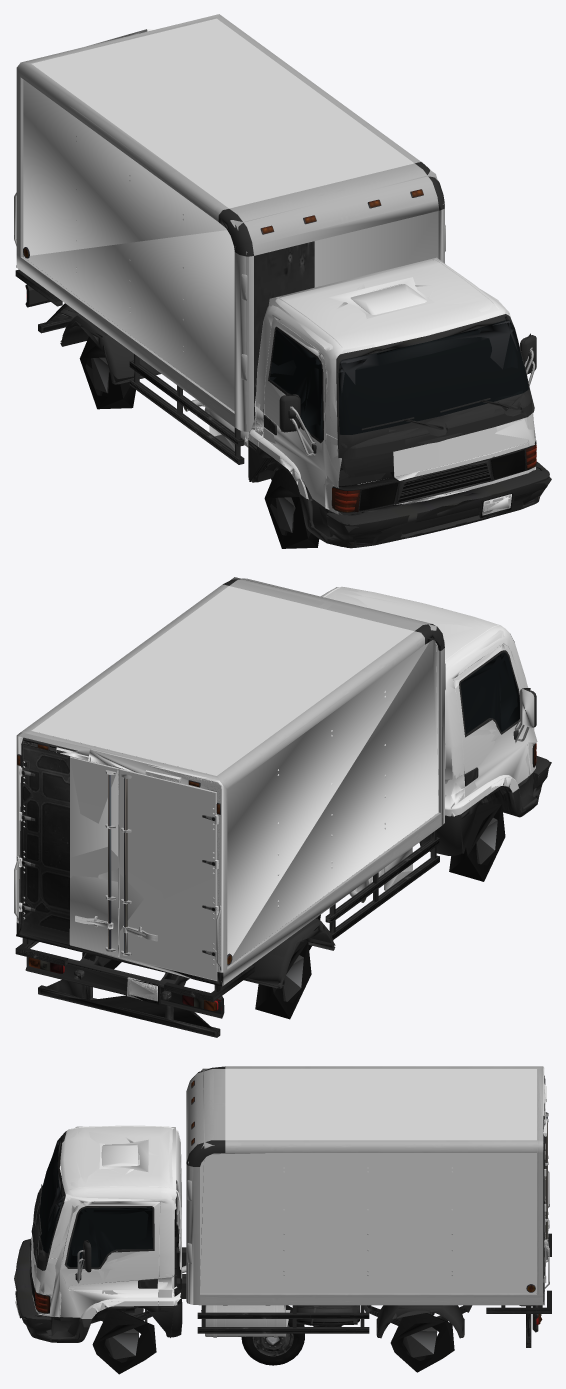
The model's file is truck7.glb.
The picture shows the model from 3 angles, top to bottom: view 1: azimuth 30°, elevation 25°; view 2: azimuth 150°, elevation 25°; view 3: azimuth 270°, elevation 25°; orthographic projection. The views are drawn at different scales.
Parts seen in each view (by area): view 1: body0, body2, body1; view 2: body0, body2, body1; view 3: body0, body1, body2, wheel0, wheel1.
Part boxes in pixels (x1,y1,x2,y2): body0: [14, 14, 549, 548]; body2: [16, 29, 551, 548]; body1: [14, 22, 549, 547]; body0: [14, 579, 549, 1031]; body2: [16, 577, 551, 1028]; body1: [14, 578, 549, 1037]; body0: [15, 1066, 551, 1347]; body1: [15, 1066, 549, 1342]; body2: [14, 1068, 548, 1374]; wheel0: [241, 1305, 304, 1365]; wheel1: [242, 1305, 304, 1365].
Size of the model in its own units: 3.04 by 3.73 by 7.02.
6 materials, 2 textured.
